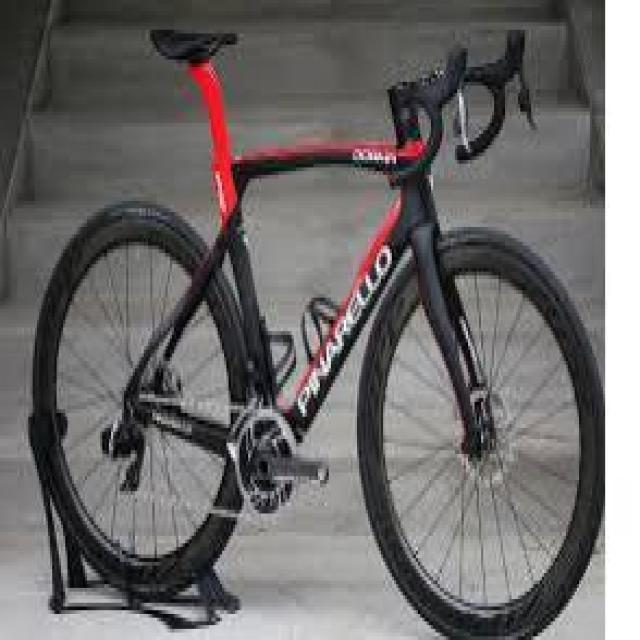bicycle: (41, 31, 609, 634)
